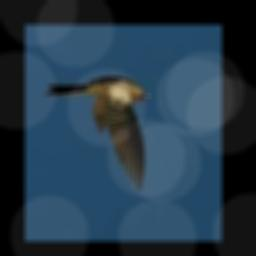Cuckoo: (44, 78, 150, 192)
